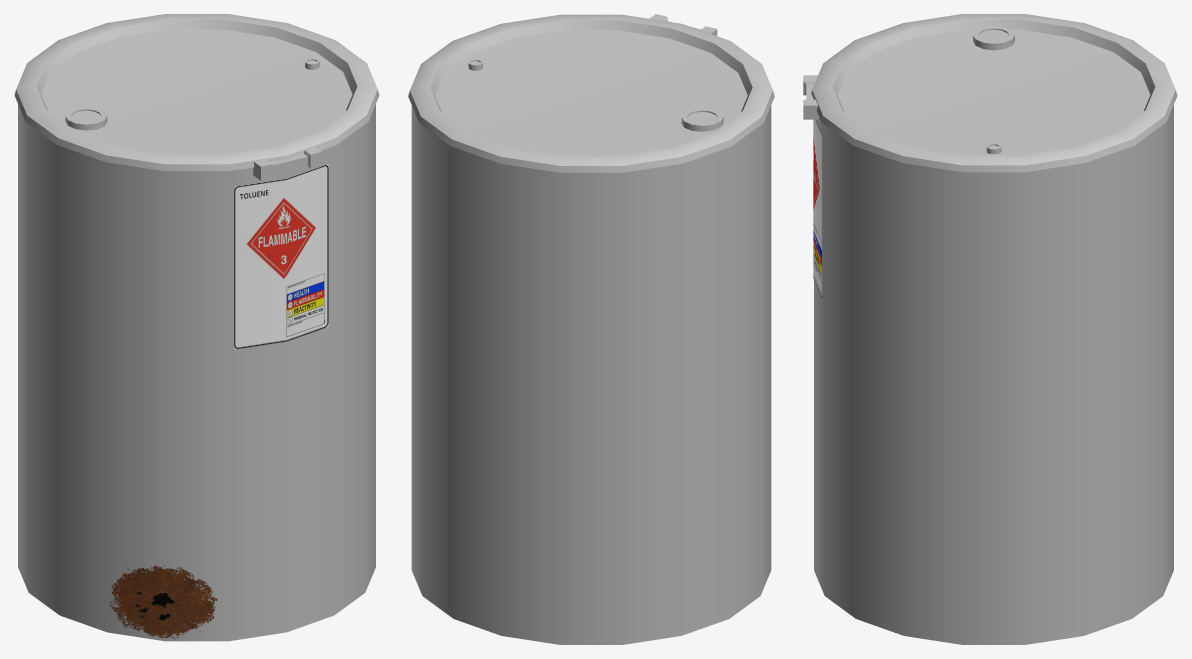
File: 55_Gal_Drum_Toulene.fbx
3 views of the same model, side by side, from view 1: azimuth 30°, elevation 25°; view 2: azimuth 150°, elevation 25°; view 3: azimuth 270°, elevation 25° (orthographic).
Visible parts, largest first — view 1: 55_Gal_Drum_Toulene, 55_Gal_Drum_Lid_Low.003, 55_Gal_Drum_Label_Low.007, 55_Gal_Drum_Label_Low.009; view 2: 55_Gal_Drum_Toulene, 55_Gal_Drum_Lid_Low.003; view 3: 55_Gal_Drum_Toulene, 55_Gal_Drum_Lid_Low.003, 55_Gal_Drum_Label_Low.007.
Boxes of the visible parts, left/top/right/bottom form: 55_Gal_Drum_Toulene: left=18, top=104, right=375, bottom=641; 55_Gal_Drum_Lid_Low.003: left=14, top=14, right=379, bottom=180; 55_Gal_Drum_Label_Low.007: left=234, top=163, right=328, bottom=349; 55_Gal_Drum_Label_Low.009: left=109, top=565, right=217, bottom=639; 55_Gal_Drum_Toulene: left=411, top=105, right=771, bottom=644; 55_Gal_Drum_Lid_Low.003: left=408, top=14, right=774, bottom=172; 55_Gal_Drum_Toulene: left=814, top=105, right=1173, bottom=644; 55_Gal_Drum_Lid_Low.003: left=803, top=14, right=1177, bottom=172; 55_Gal_Drum_Label_Low.007: left=813, top=119, right=822, bottom=299.
Size of the model in its own units: 58.21 by 86.45 by 60.23.
